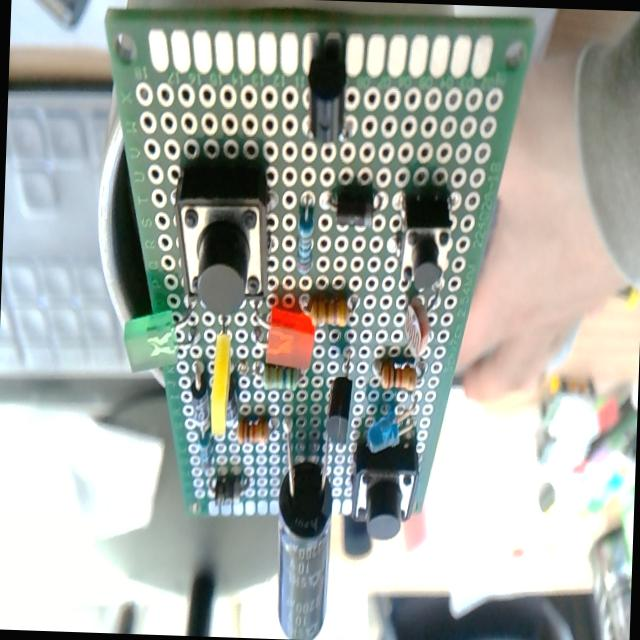Electrolytic capacitor: (272, 400, 338, 636)
cds: (402, 288, 434, 359)
diode: (184, 362, 217, 429), (220, 361, 242, 436), (336, 190, 374, 228), (211, 474, 247, 507)
led: (120, 307, 180, 375), (264, 304, 316, 373), (208, 314, 232, 436), (365, 399, 416, 454)
resistor: (304, 290, 350, 326), (374, 359, 416, 392), (296, 203, 314, 274), (237, 416, 269, 446), (263, 364, 299, 390), (197, 434, 215, 474)
switch: (172, 163, 271, 313), (348, 439, 421, 540), (396, 194, 452, 294)
transistor: (304, 41, 348, 147), (325, 378, 352, 444)
